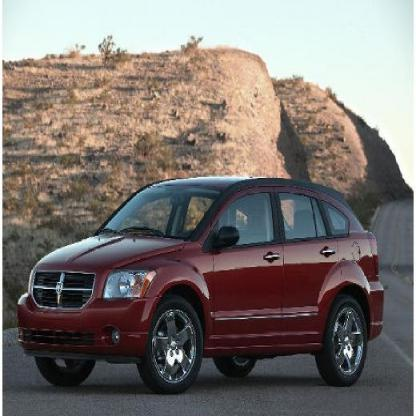Vehicle: (14, 167, 388, 400)
